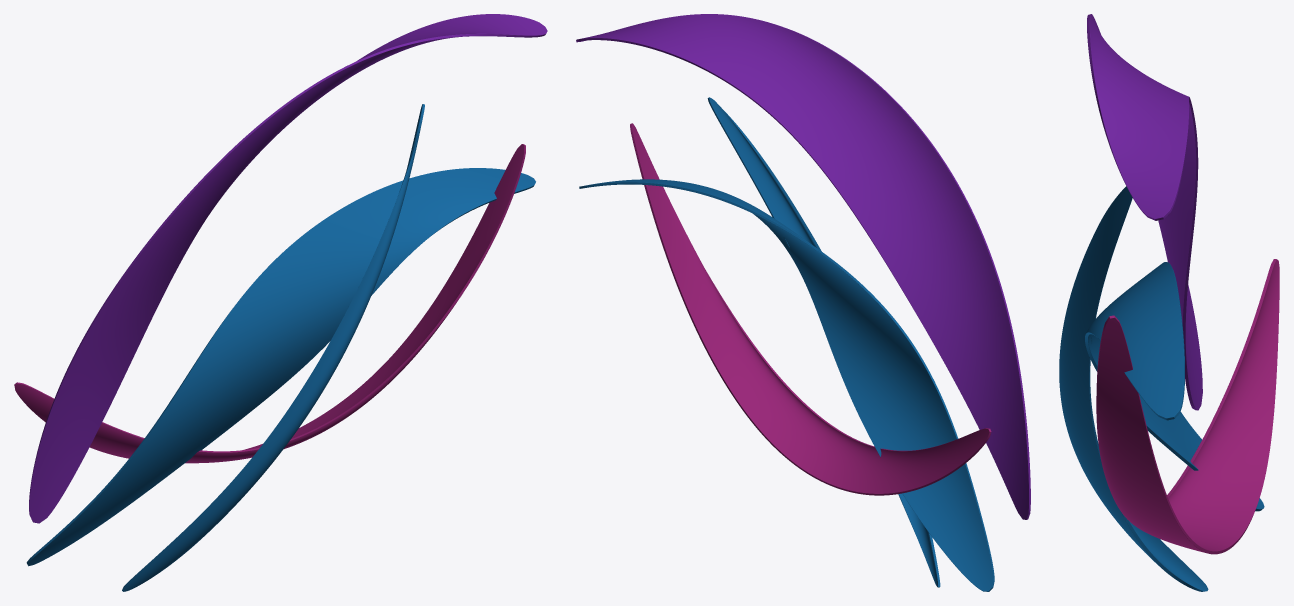
The model's file is chromatic-silk.glb.
The picture shows the model from 3 angles, left to right: view 1: azimuth 30°, elevation 25°; view 2: azimuth 150°, elevation 25°; view 3: azimuth 270°, elevation 25°; orthographic projection. The views are drawn at different scales.
Parts seen in each view (by area): view 1: Chromatic fold 1, Chromatic fold 0, Chromatic fold 2, Chromatic fold 3; view 2: Chromatic fold 0, Chromatic fold 1, Chromatic fold 2, Chromatic fold 3; view 3: Chromatic fold 2, Chromatic fold 0, Chromatic fold 1, Chromatic fold 3.
Boxes of the visible parts, x1,y1,x2,y2 form: Chromatic fold 1: (26,168,535,566); Chromatic fold 0: (29,14,547,523); Chromatic fold 2: (14,144,525,463); Chromatic fold 3: (122,104,424,591); Chromatic fold 0: (576,14,1030,519); Chromatic fold 1: (579,179,994,591); Chromatic fold 2: (630,123,991,495); Chromatic fold 3: (707,97,940,587); Chromatic fold 2: (1096,259,1279,554); Chromatic fold 0: (1087,14,1202,410); Chromatic fold 1: (1085,262,1264,511); Chromatic fold 3: (1059,186,1208,591).
Size of the model in its own units: 2.79 by 2.76 by 0.793.
